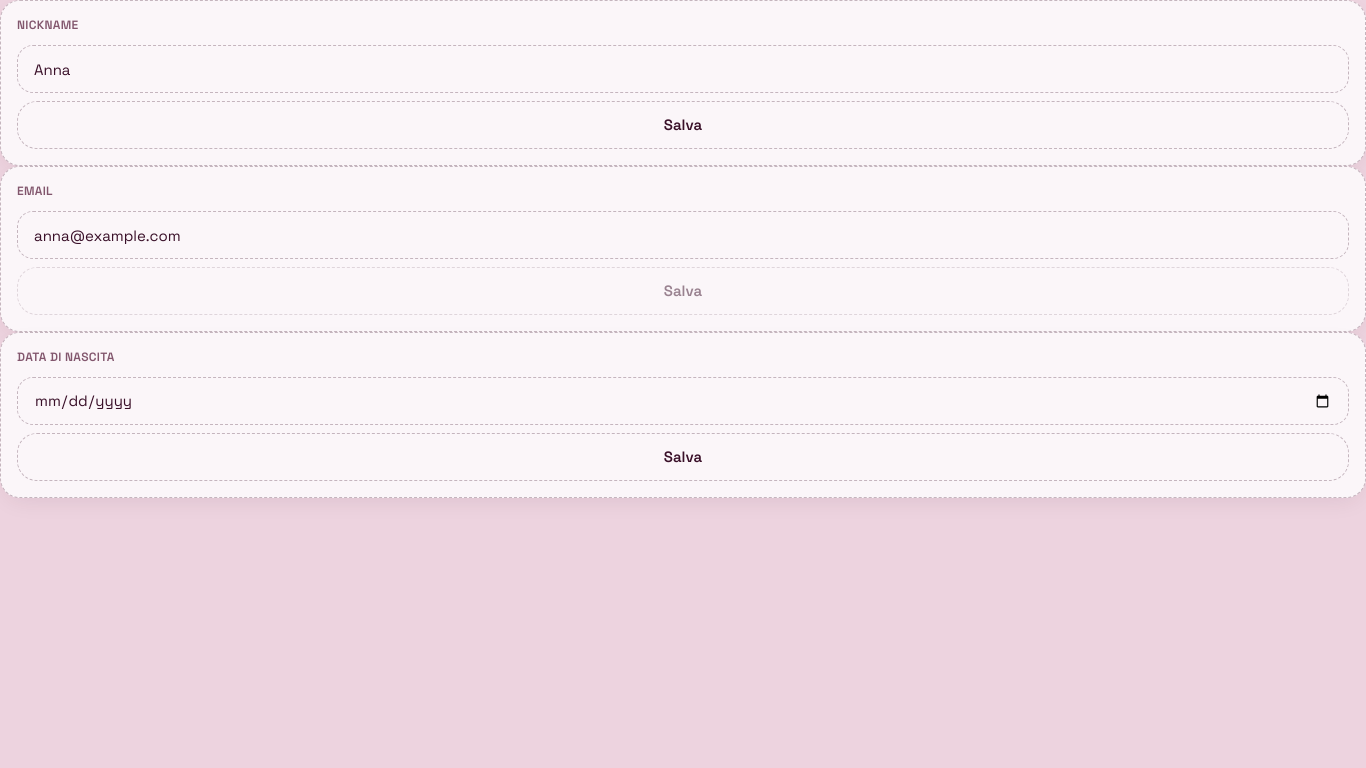
ProfileEditForm › submit del nickname chiama updateDisplayName e fa router.refresh() in caso di successo
Replace the text in the field named "Nickname" with "Anna Nuova". click: (683, 69)
box: [17, 45, 1349, 93]
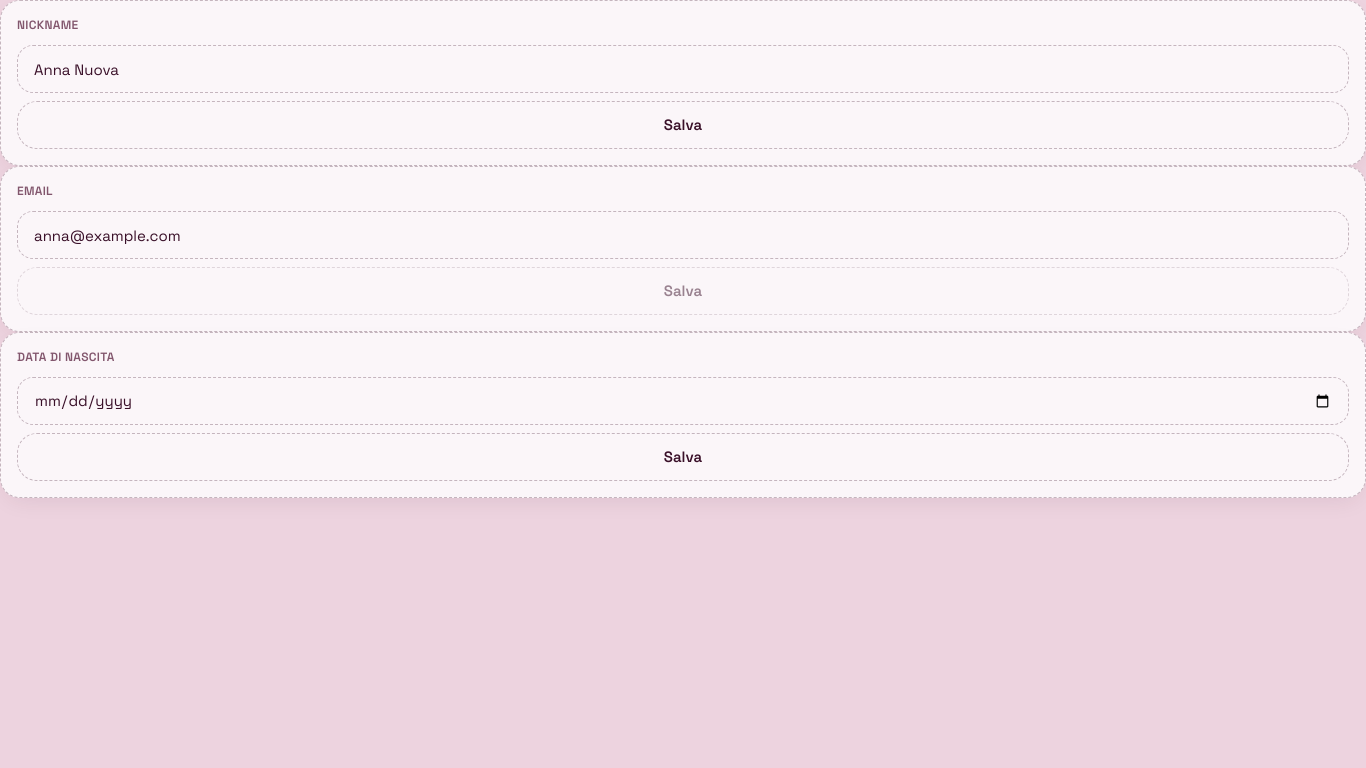
Click the button "Salva" below "Nickname". click: (683, 125)
box: [17, 101, 1349, 149]
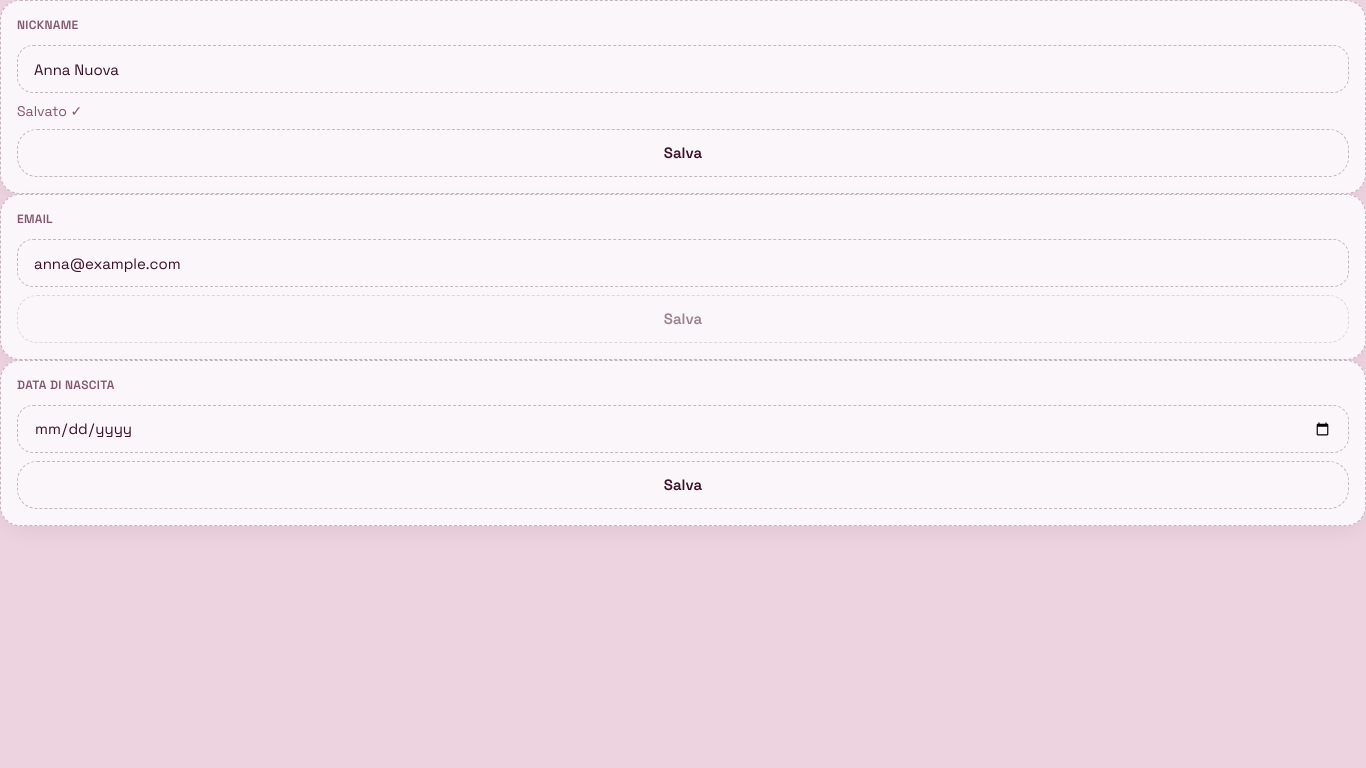
expect the text "Salvato ✓" is shown: met, box [17, 102, 82, 120]
